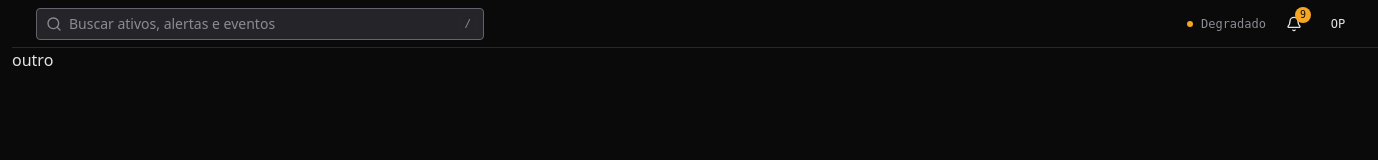
Test: Header › a busca atualiza o filtro global
In the search field labelled "Buscar ativos, alertas e eventos": (260, 24) 36,8 -> 484,40, type "norte"
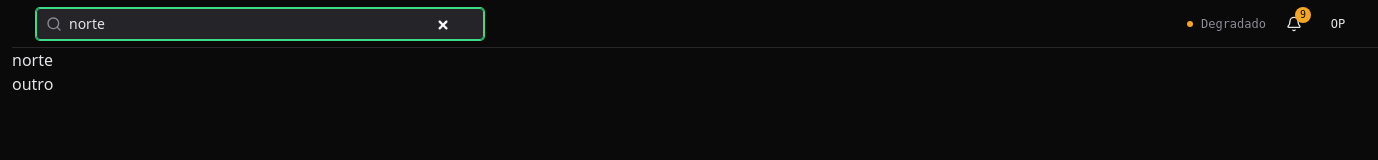
Expected: the text with test id "query" reads "norte", 12,49 -> 53,71
